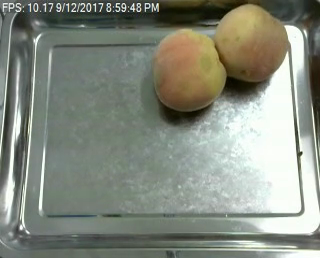Peach: (151, 26, 227, 111), (215, 2, 289, 84)
